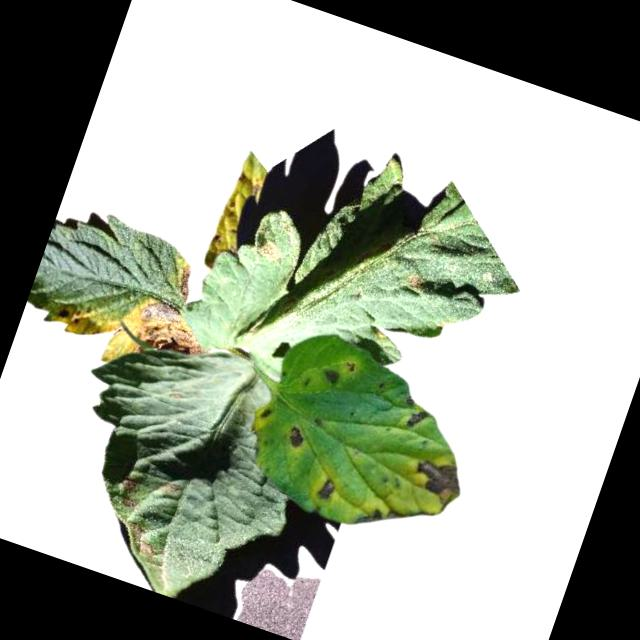Early_blight: (122, 293, 216, 375), (404, 452, 468, 513), (118, 520, 163, 563), (394, 395, 434, 439), (228, 165, 264, 203), (169, 260, 198, 304), (350, 501, 385, 535), (116, 476, 145, 511), (253, 237, 280, 266), (279, 423, 306, 451), (316, 476, 339, 502), (319, 367, 341, 389), (52, 303, 75, 324), (404, 273, 424, 294), (258, 406, 273, 423)
